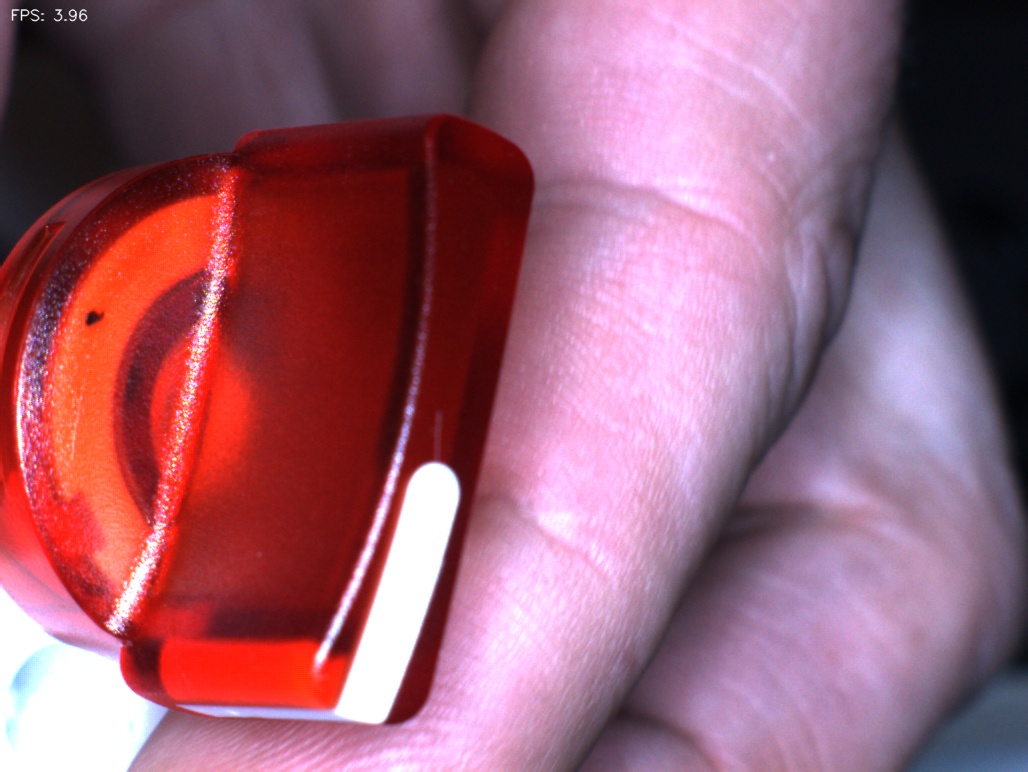PointNoir: (50, 273, 131, 358)
